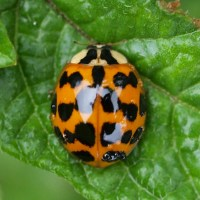Red: (49, 42, 146, 168)
